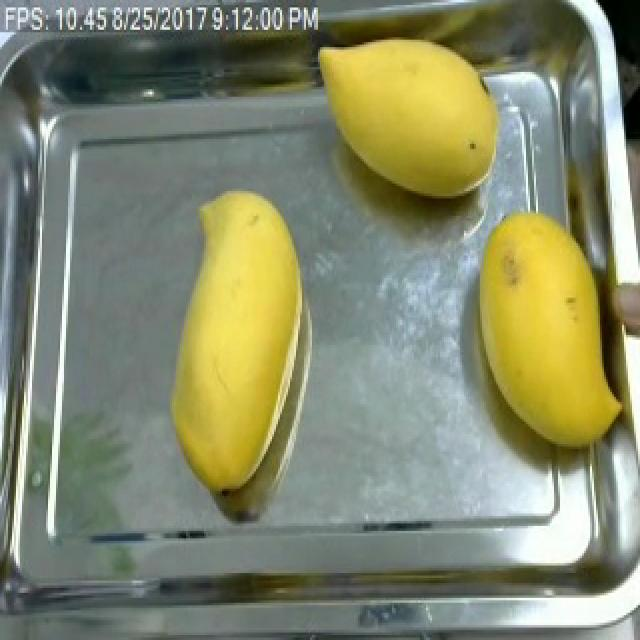fruit: (162, 179, 324, 506), (308, 5, 524, 226), (458, 196, 636, 464)
